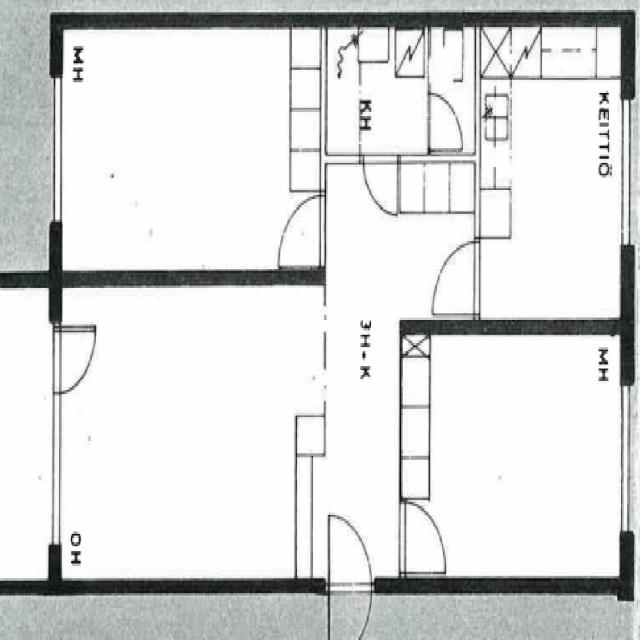door: (329, 510, 372, 596), (51, 325, 105, 393), (431, 242, 482, 314), (400, 502, 451, 572), (276, 196, 326, 266), (329, 579, 372, 640), (427, 93, 467, 150), (363, 156, 398, 220)
